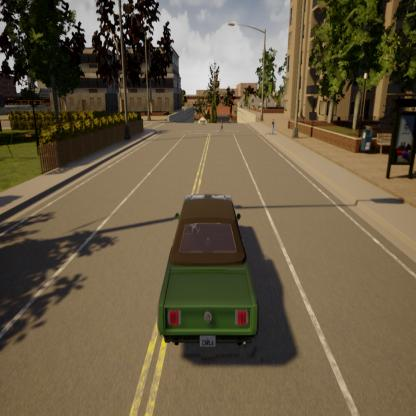Cars: (149, 161, 281, 379)
Pedestrian: (267, 115, 279, 140), (217, 115, 226, 143)
